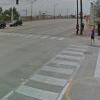Crosswalk: (46, 35, 82, 100)
